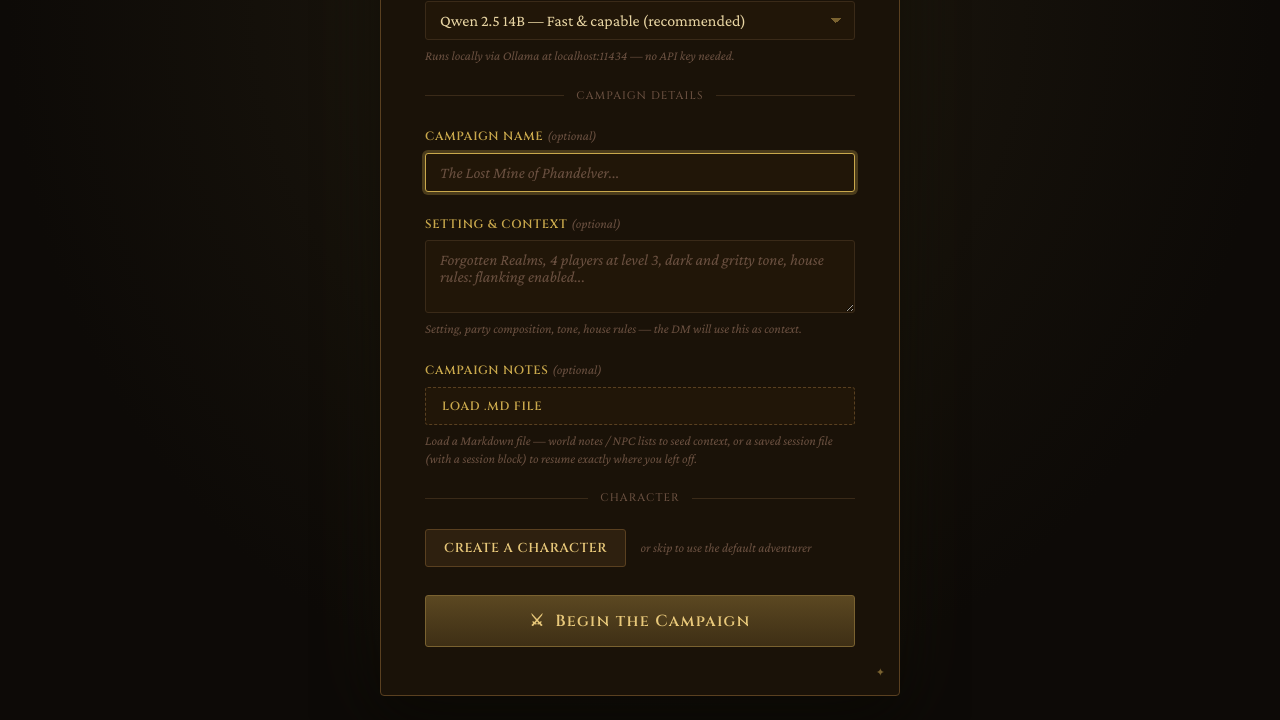
CampaignSetup — Character section › wizard cancel hides the wizard and shows "Create a Character" again
This screenshot has width=1280, height=720.
(page scrolled)
Click the button "Create a Character".
click(526, 548)  # box [425, 529, 626, 567]
(page scrolled)
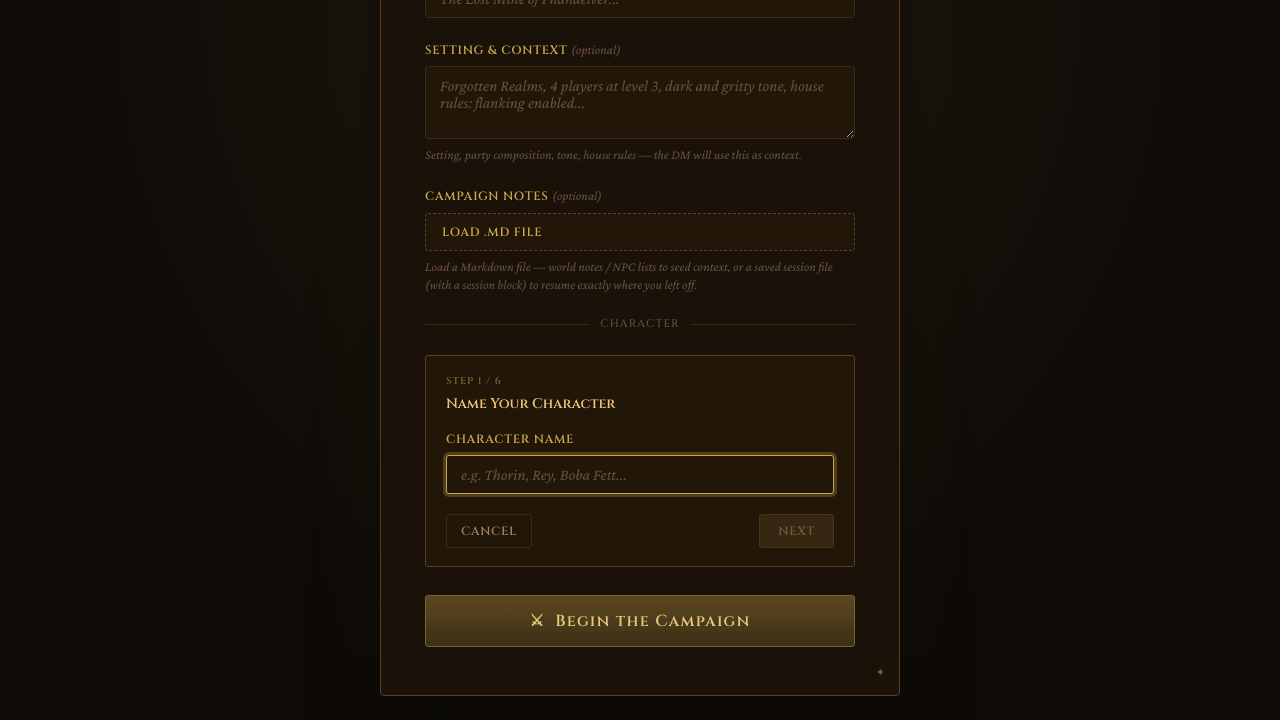
Note: Cancel wizard
Click the button "Cancel".
click(489, 531)  # box [446, 514, 532, 548]
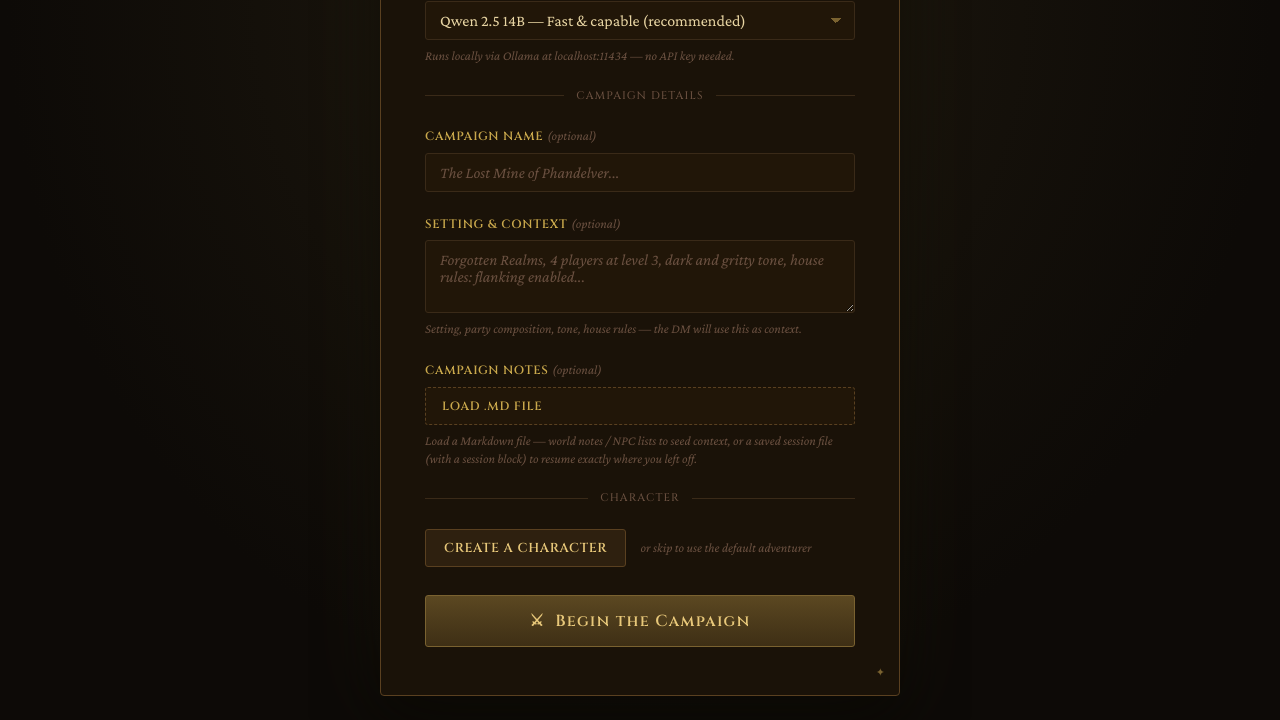
Expected: the dialog is gone
Expected: the button "Create a Character" is shown, [425, 529, 626, 567]
